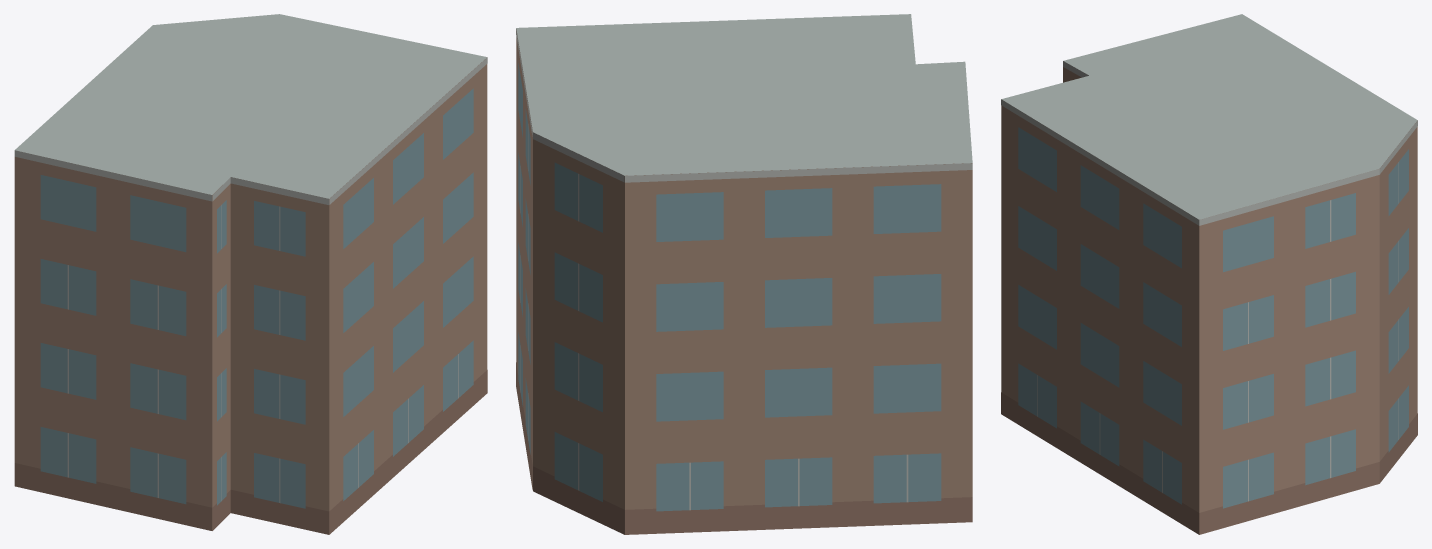
The model's file is survey-upis-32953111.glb.
3 renders of one model, left to right at view 1: azimuth 30°, elevation 25°; view 2: azimuth 150°, elevation 25°; view 3: azimuth 270°, elevation 25°, orthographic. The views are drawn at different scales.
Visible parts, largest first — view 1: survey-upis-32953111.tmp; view 2: survey-upis-32953111.tmp; view 3: survey-upis-32953111.tmp.
Part boxes in pixels (left/top/right/bottom): survey-upis-32953111.tmp: left=14, top=14, right=487, bottom=534; survey-upis-32953111.tmp: left=516, top=14, right=972, bottom=534; survey-upis-32953111.tmp: left=1001, top=14, right=1417, bottom=534.
Size of the model in its own units: 17.81 by 12.7 by 15.23.
